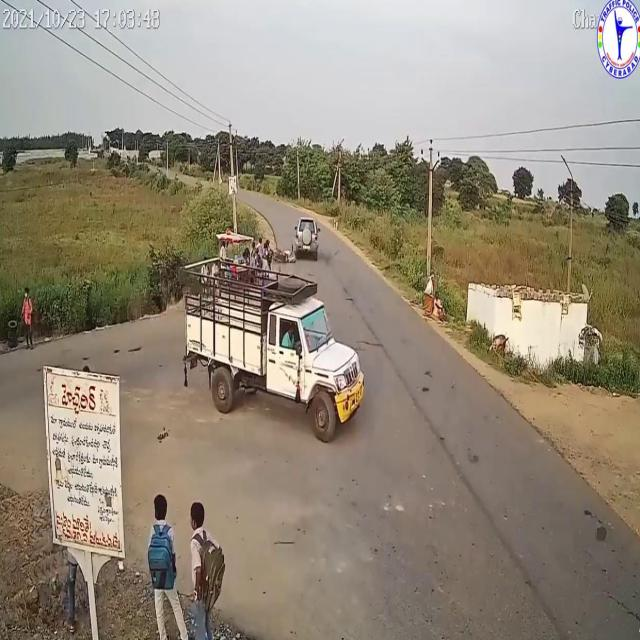accident: (271, 213, 325, 271)
